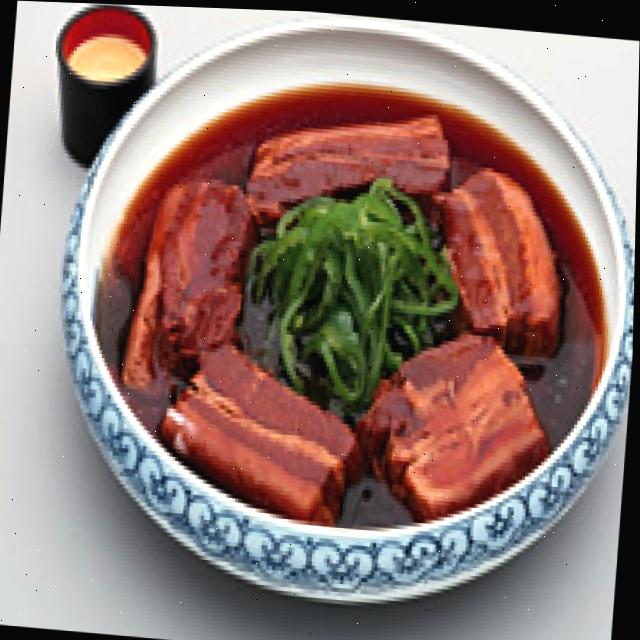猪肉菜式: (31, 1, 640, 640)
